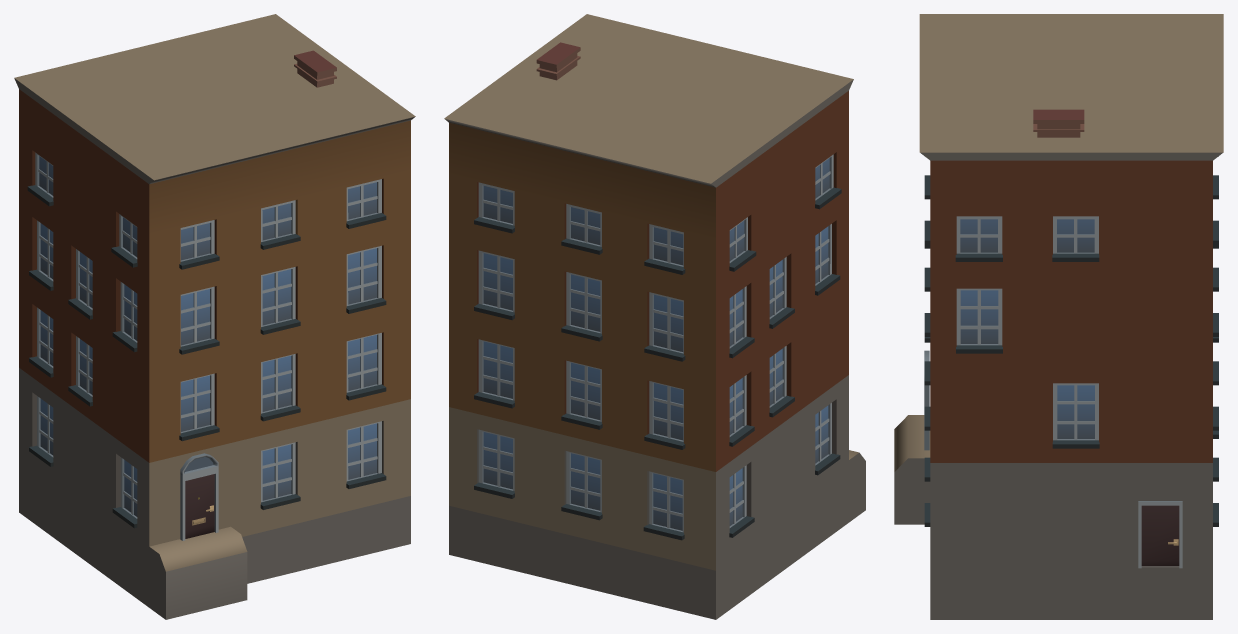
The model's file is Residential_GeorgianHome_alt02.glb.
3 renders of one model, left to right at view 1: azimuth 30°, elevation 25°; view 2: azimuth 150°, elevation 25°; view 3: azimuth 270°, elevation 25°, orthographic. The views are drawn at different scales.
Visible parts, largest first — view 1: base.104, windowRefl.074; view 2: base.104, windowRefl.074; view 3: base.104, windowRefl.074.
Part boxes in pixels (x1,y1,x2,y2): base.104: (14, 14, 415, 619); windowRefl.074: (39, 156, 376, 516); base.104: (444, 14, 865, 619); windowRefl.074: (483, 158, 829, 530); base.104: (894, 14, 1223, 619); windowRefl.074: (960, 219, 1094, 438).
Bounding box in the file's own units: 11.2 × 17.64 × 10.83.
